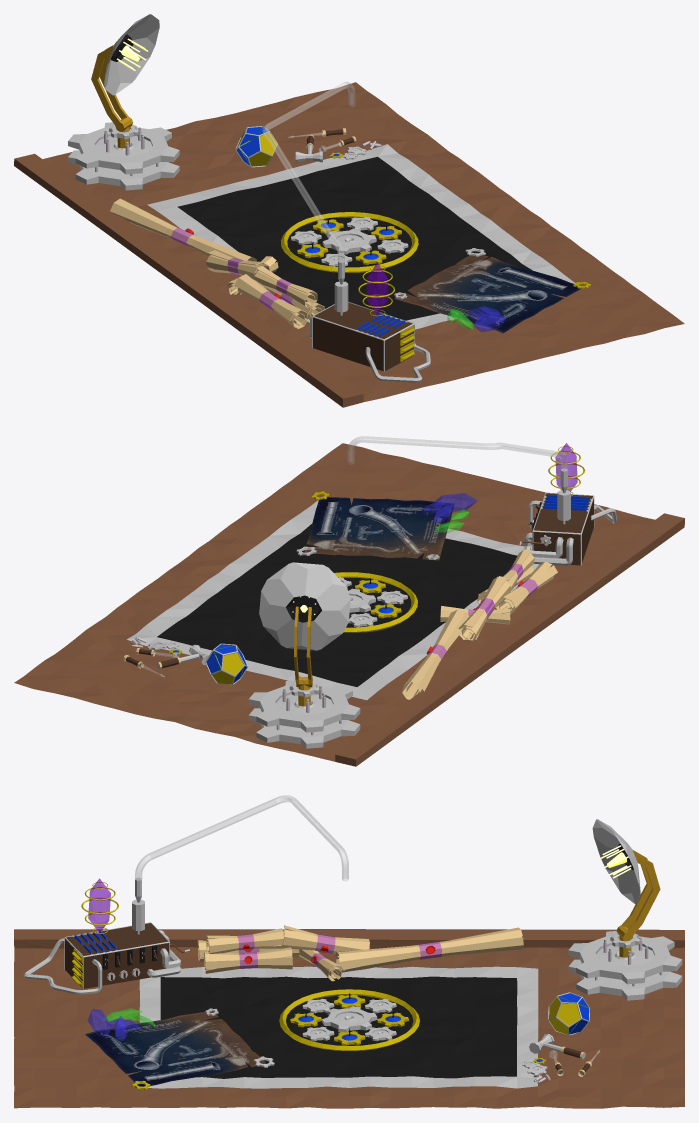
File: desk.gltf
The picture shows the model from 3 angles, top to bottom: view 1: azimuth 30°, elevation 25°; view 2: azimuth 150°, elevation 25°; view 3: azimuth 270°, elevation 25°; orthographic projection. The views are drawn at different scales.
Visible parts, largest first — view 1: Desk, Cylinder.015, pipe_diagram, Cube, Spiral.005, Vert.001, Ring, Spiral.001, Solid, Spiral.004, Cylinder, Spiral.002 (+1 smaller); view 2: Desk, Cylinder.015, pipe_diagram, Cube, Spiral.005, Vert.001, Solid, Spiral.002, Spiral.001, Ring, Icosphere.005, Spiral.004 (+2 smaller); view 3: Desk, Cylinder.015, pipe_diagram, Cube, Spiral.005, Vert.001, Ring, Spiral, Spiral.002, Solid, Spiral.004, Cylinder (+3 smaller).
Boxes of the visible parts, x1,y1,x2,y2 form: Desk: (14,82,684,407); Cylinder.015: (68,14,179,190); pipe_diagram: (394,253,581,333); Cube: (310,260,430,382); Spiral.005: (110,198,256,261); Vert.001: (262,82,354,262); Ring: (281,212,418,272); Spiral.001: (234,274,308,328); Solid: (235,126,277,167); Spiral.004: (254,266,317,308); Cylinder: (322,228,376,254); Spiral.002: (206,250,270,282); Desk: (14,443,684,766); Cylinder.015: (248,562,360,748); pipe_diagram: (304,497,454,560); Cube: (519,468,617,565); Spiral.005: (402,609,469,699); Vert.001: (347,436,567,470); Solid: (205,643,248,684); Spiral.002: (458,576,510,641); Spiral.001: (495,561,557,614); Ring: (334,572,417,632); Icosphere.005: (555,443,577,491); Spiral.004: (503,549,534,592); Desk: (14,929,684,1108); Cylinder.015: (568,819,682,1000); pipe_diagram: (85,1011,266,1086); Cube: (23,877,189,994); Spiral.005: (335,927,523,972); Vert.001: (135,795,348,880); Ring: (279,989,419,1050); Spiral: (204,947,292,973); Spiral.002: (280,925,369,953); Solid: (548,992,590,1035); Spiral.004: (206,928,284,953); Cylinder: (322,1006,377,1032).
Bounding box in the file's own units: 18.53 × 8.84 × 30.83.
Materials: 19 (1 with a texture image).
